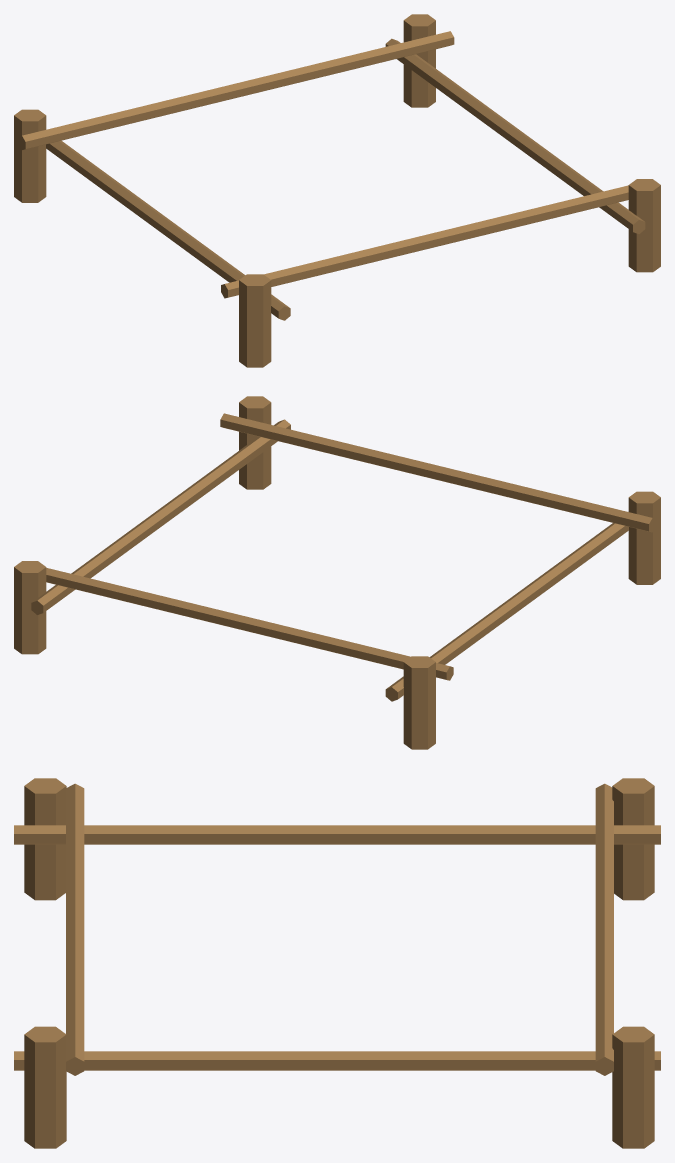
File: wheatPlanter.gltf
3 views of the same model, one above another, from view 1: azimuth 30°, elevation 25°; view 2: azimuth 150°, elevation 25°; view 3: azimuth 270°, elevation 25° (orthographic). The views are drawn at different scales.
Visible parts, largest first — view 1: Cylinder.014, Cylinder.015, Cylinder.013, Cylinder.012, Cylinder.011, Cylinder.009, Cylinder.010, Cylinder.008; view 2: Cylinder.015, Cylinder.014, Cylinder.013, Cylinder.012, Cylinder.010, Cylinder.008, Cylinder.011, Cylinder.009; view 3: Cylinder.012, Cylinder.013, Cylinder.015, Cylinder.014, Cylinder.009, Cylinder.008, Cylinder.011, Cylinder.010.
Part boxes in pixels (box(x1,y1,x2,y2)): Cylinder.014: box(18, 31, 454, 150); Cylinder.015: box(221, 185, 628, 298); Cylinder.013: box(385, 38, 645, 233); Cylinder.012: box(46, 140, 290, 320); Cylinder.011: box(239, 274, 271, 367); Cylinder.009: box(628, 179, 660, 272); Cylinder.010: box(14, 109, 46, 202); Cylinder.008: box(403, 14, 435, 107); Cylinder.015: box(220, 413, 655, 532); Cylinder.014: box(46, 568, 453, 680); Cylinder.013: box(31, 419, 290, 614); Cylinder.012: box(385, 523, 628, 701); Cylinder.010: box(403, 656, 435, 749); Cylinder.008: box(14, 561, 46, 654); Cylinder.011: box(628, 491, 660, 584); Cylinder.009: box(239, 396, 271, 489); Cylinder.012: box(14, 825, 660, 844); Cylinder.013: box(14, 1051, 660, 1070); Cylinder.015: box(66, 783, 84, 1075); Cylinder.014: box(595, 783, 613, 1075); Cylinder.009: box(24, 1026, 66, 1148); Cylinder.008: box(612, 1026, 654, 1148); Cylinder.011: box(24, 778, 66, 900); Cylinder.010: box(612, 778, 654, 900).
Bounding box in the file's own units: 5.5 × 1 × 5.5.
